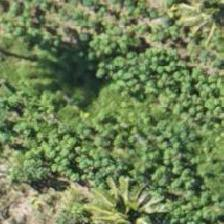coconut_tree: (76, 162, 166, 223)
